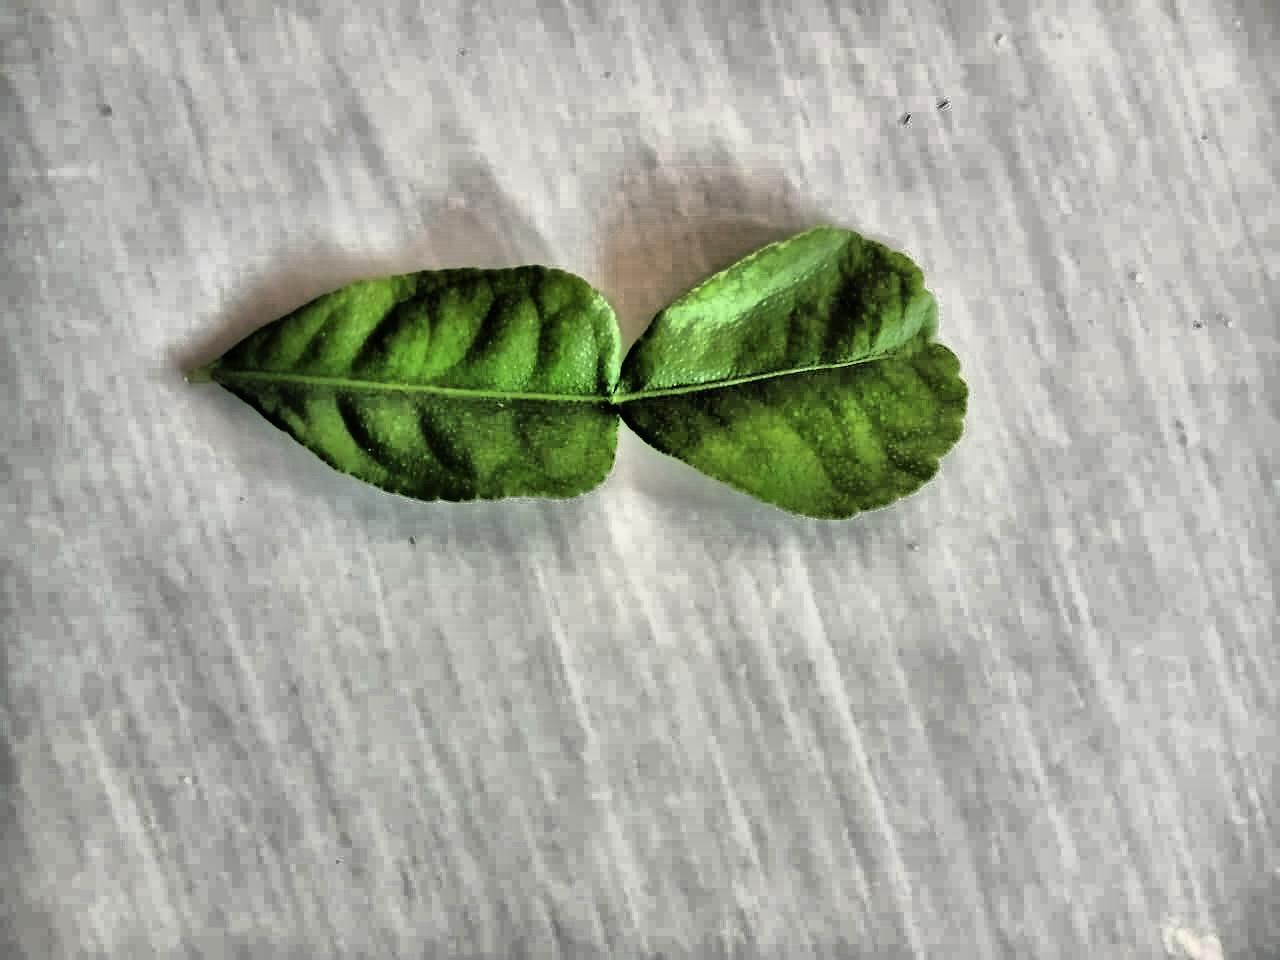daun jeruk: (189, 226, 967, 518)
